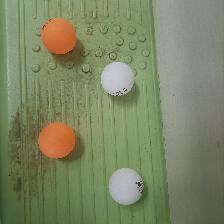WhiteBall: (107, 167, 143, 205), (99, 61, 134, 95)
YellowBall: (40, 16, 77, 54), (37, 121, 75, 158)
